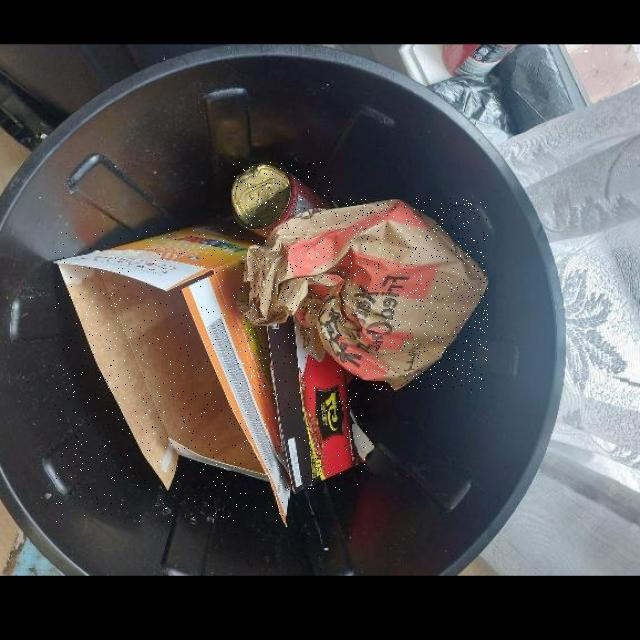metal: (231, 161, 331, 238)
paper: (56, 228, 289, 523), (240, 198, 488, 390), (267, 315, 374, 492)
